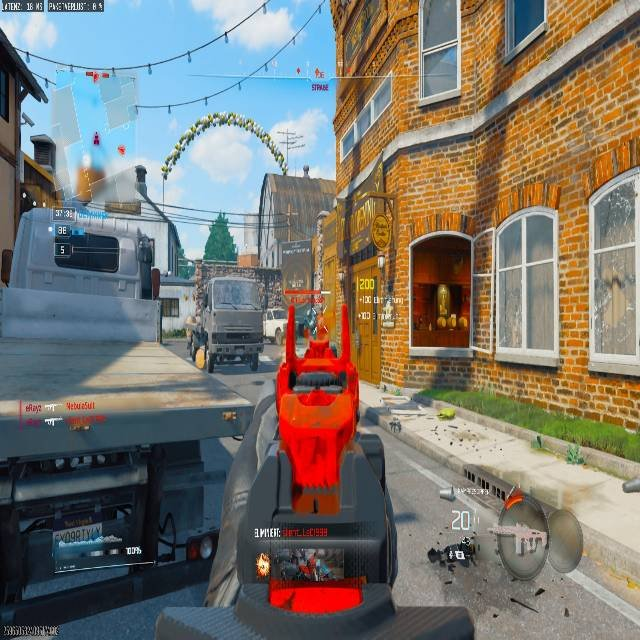player: (184, 313, 212, 366), (303, 307, 317, 338)
